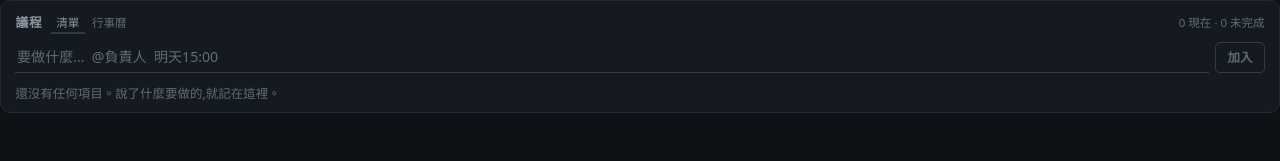
Test case: AgendaPanel › keeps the line when the server refuses it
The width and height of the screenshot is (1280, 161).
Type "訂便當" into the dropdown named "新增項目" at [612, 57], box [15,42,1209,73]
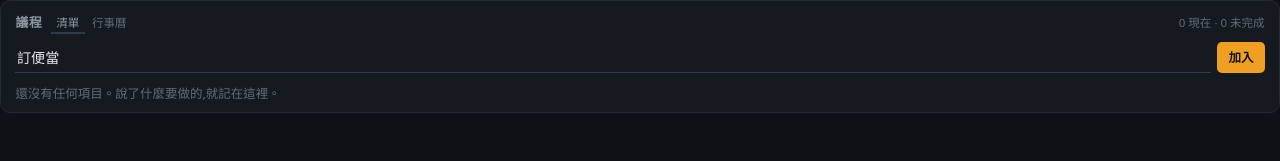
Click the button "加入" at [1241, 57], box [1217,42,1265,73]
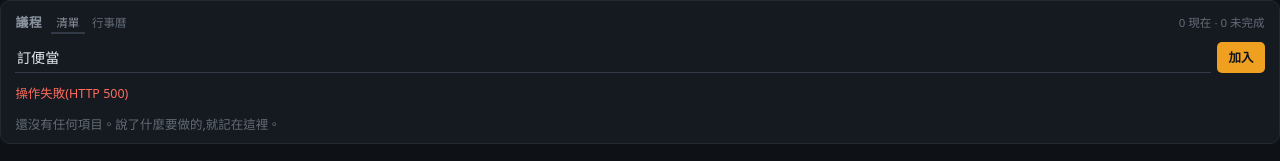
Expected: the text "操作失敗(HTTP 500)" is shown, [15,85,128,102]
